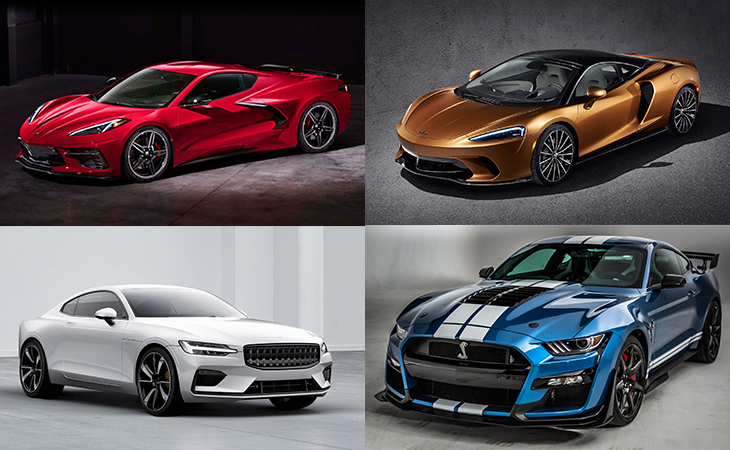Car: (375, 238, 724, 425), (385, 46, 701, 193), (23, 272, 330, 406), (19, 60, 353, 178)
